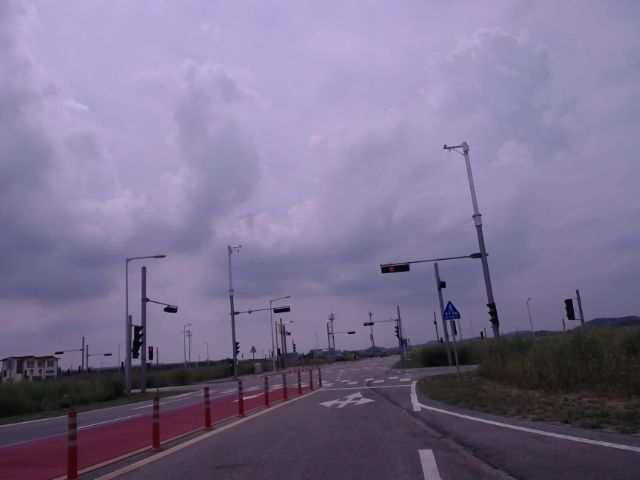orange_4: (378, 263, 412, 275), (363, 321, 376, 327)
